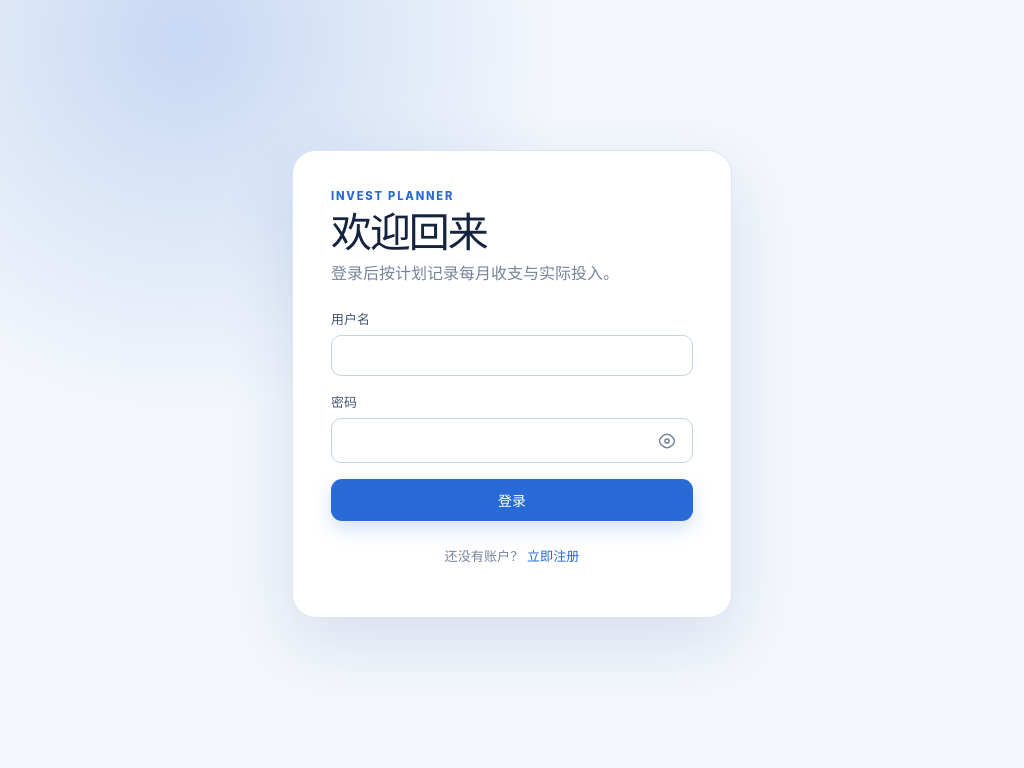
logs in, restores access, and logs out
Type "user" into the field labelled "用户名".
click(512, 356); type("user")  # box [331,335,693,376]
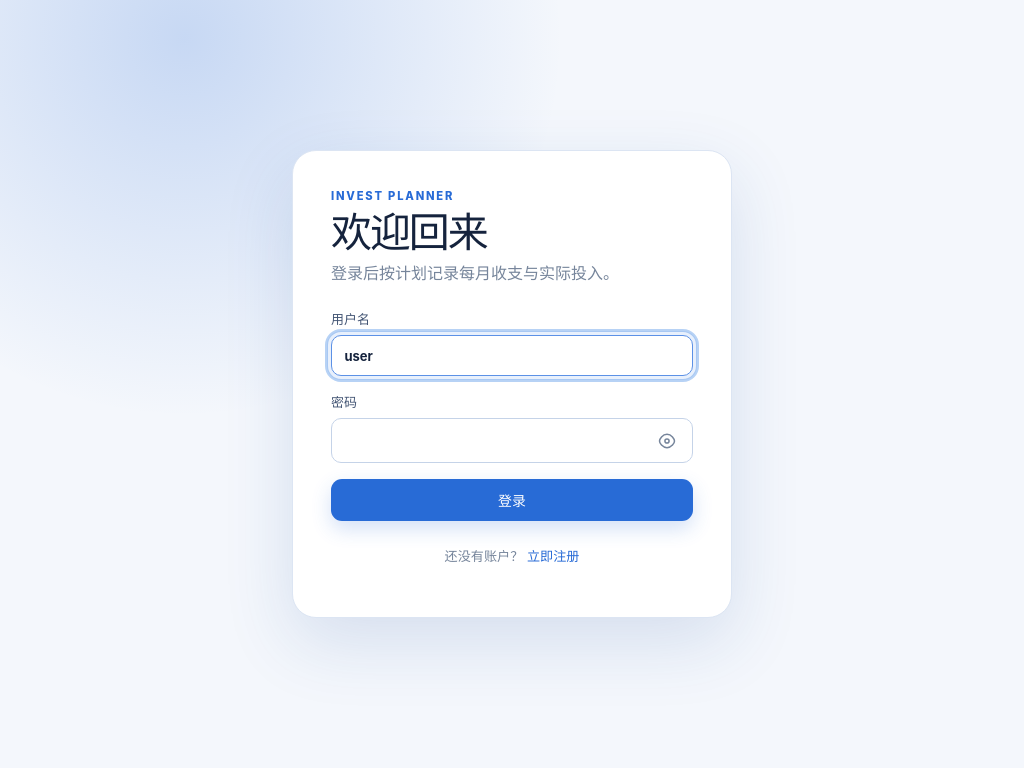
Type "securepass1" into the password field labelled "密码".
click(512, 441); type("securepass1")  # box [331,418,693,463]
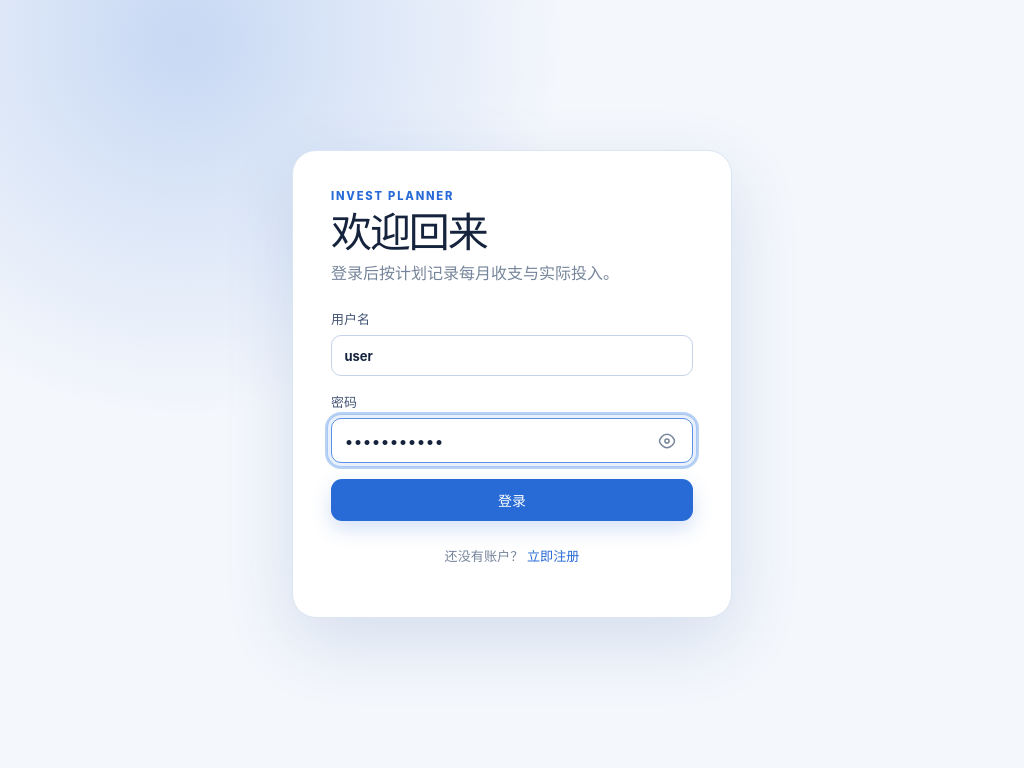
Click the button "登录".
click(512, 500)  # box [331,480,693,522]
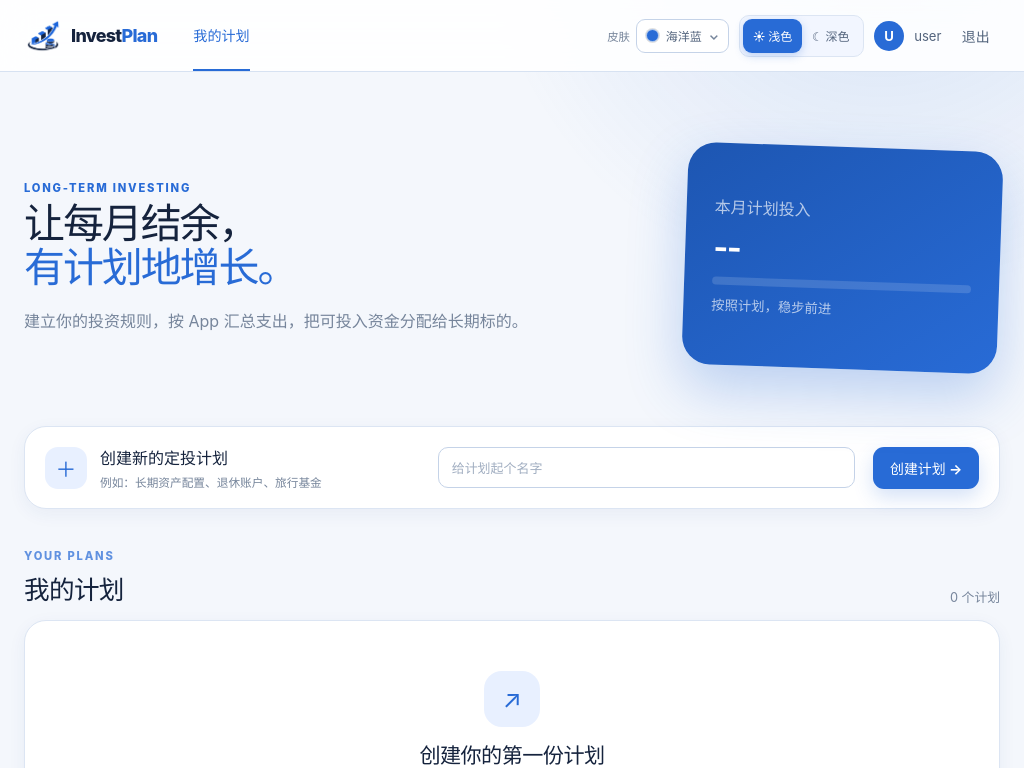
Check: the heading "让每月结余，有计划地增长。" is shown, box [24,198,296,292]
Click the button "退出".
click(976, 36)  # box [951,18,1000,54]
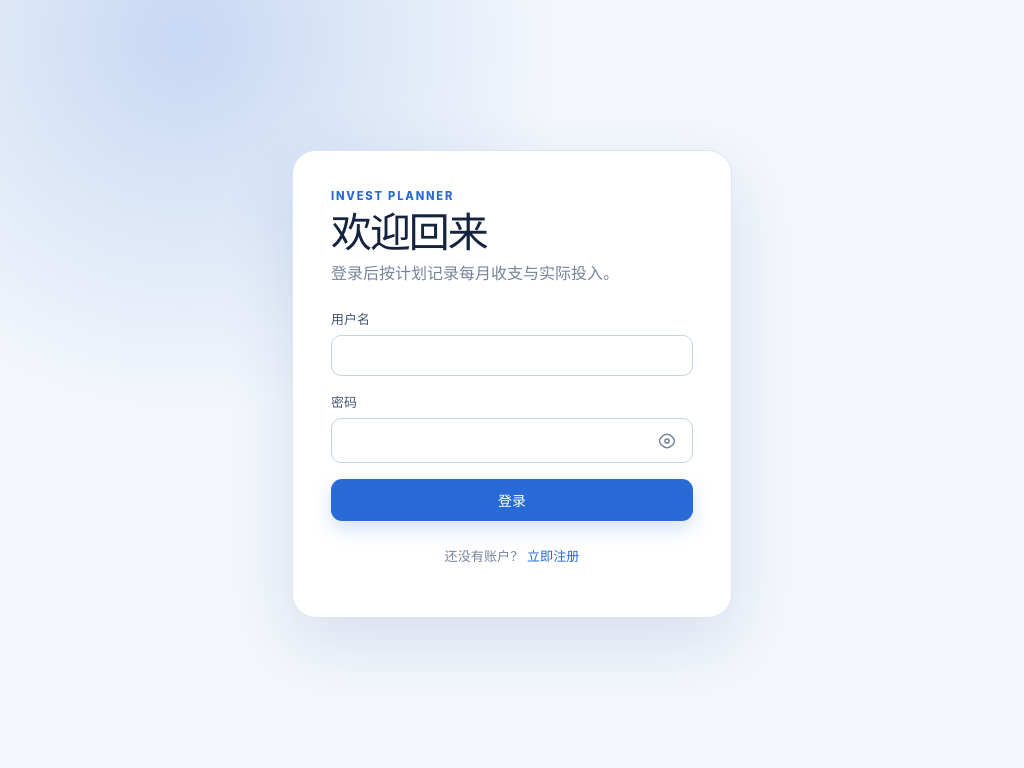
Check: the heading "欢迎回来" is shown, box [331,207,487,257]
